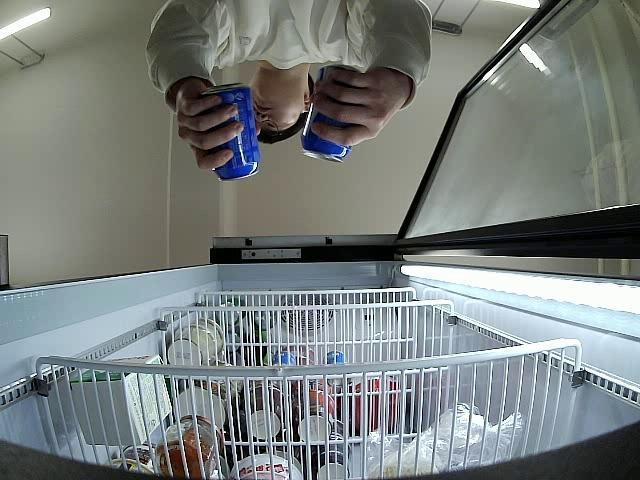13_pocariSweat: (300, 63, 364, 165), (200, 84, 262, 184)
